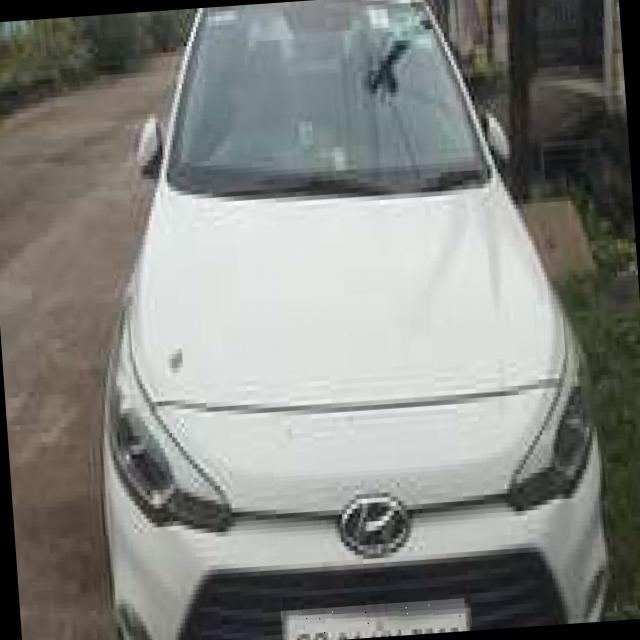Plate: (281, 598, 467, 640)
